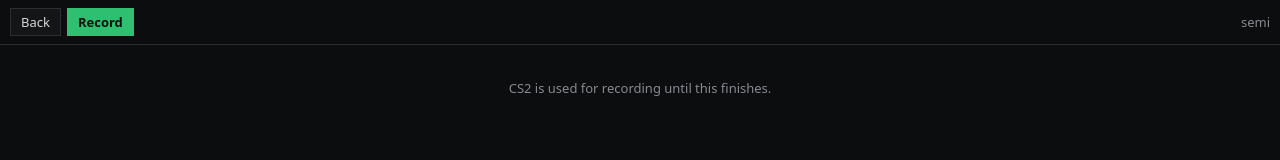
Test: a render that cannot start shows the reason
This screenshot has width=1280, height=160.
Step 1. Click the button "Record" → click(100, 22), box [67,8,134,36]
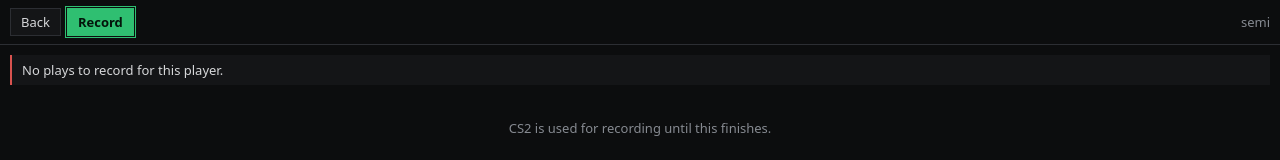
Result: the text "No plays to record for this player." is shown at [10,55,1270,85]
